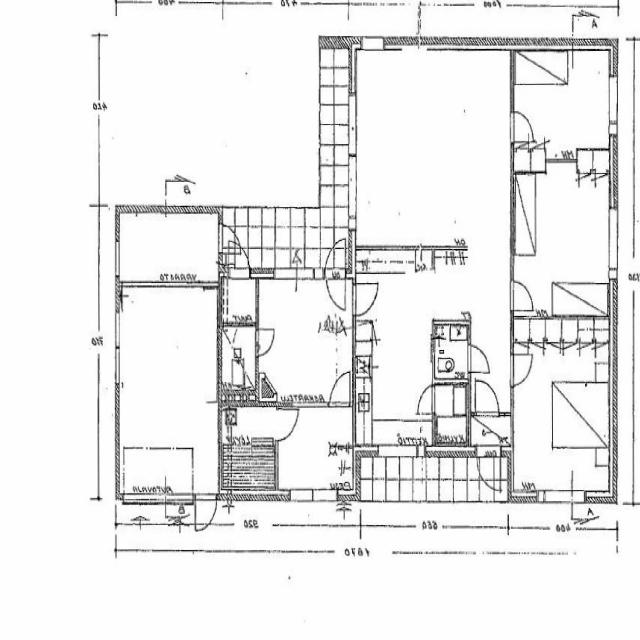door: (478, 446, 501, 492), (476, 376, 499, 416), (229, 235, 250, 278), (353, 282, 378, 316), (326, 267, 346, 309), (326, 236, 346, 278), (196, 494, 216, 530), (512, 355, 534, 386), (512, 111, 534, 142), (330, 372, 350, 406), (219, 224, 242, 253), (512, 281, 534, 311), (276, 410, 298, 440), (256, 329, 278, 357), (468, 344, 489, 372), (414, 386, 434, 413)
